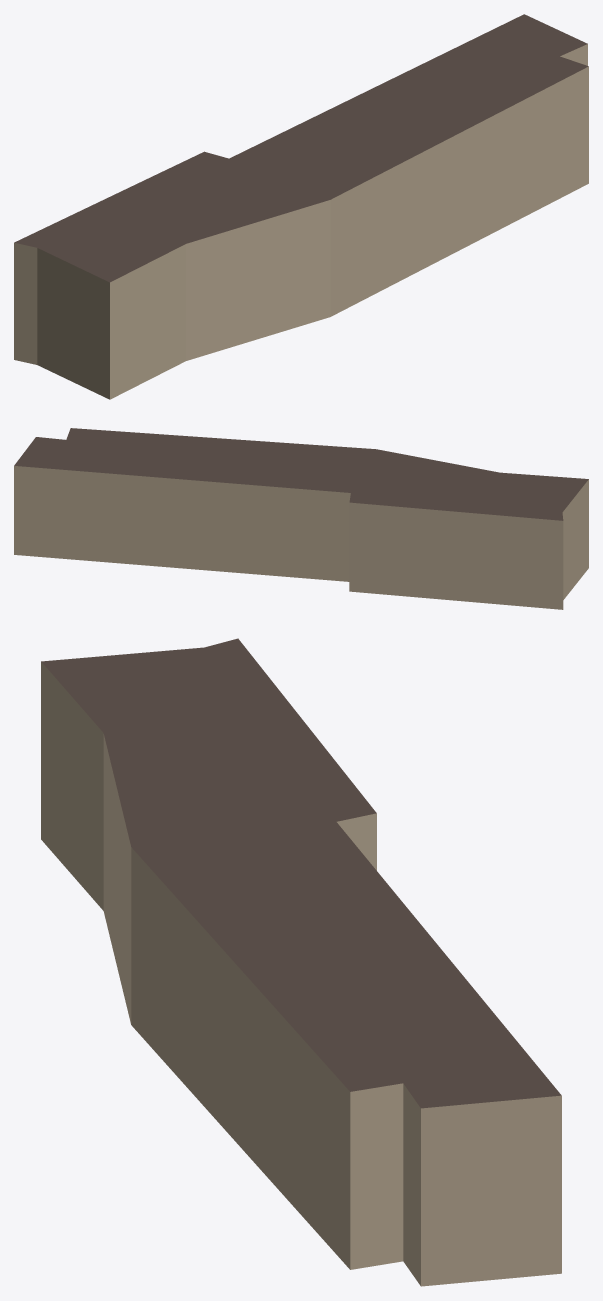
The picture shows the model from 3 angles, top to bottom: view 1: azimuth 30°, elevation 25°; view 2: azimuth 150°, elevation 25°; view 3: azimuth 270°, elevation 25°; orthographic projection. The views are drawn at different scales.
Parts seen in each view (by area): view 1: HP-w1512914138; view 2: HP-w1512914138; view 3: HP-w1512914138.
Part boxes in pixels (x1=…): HP-w1512914138: x1=14, y1=14, x2=588, y2=399; HP-w1512914138: x1=14, y1=428, x2=588, y2=609; HP-w1512914138: x1=41, y1=638, x2=561, y2=1286.
Size of the model in its own units: 50.94 by 9 by 23.85.
